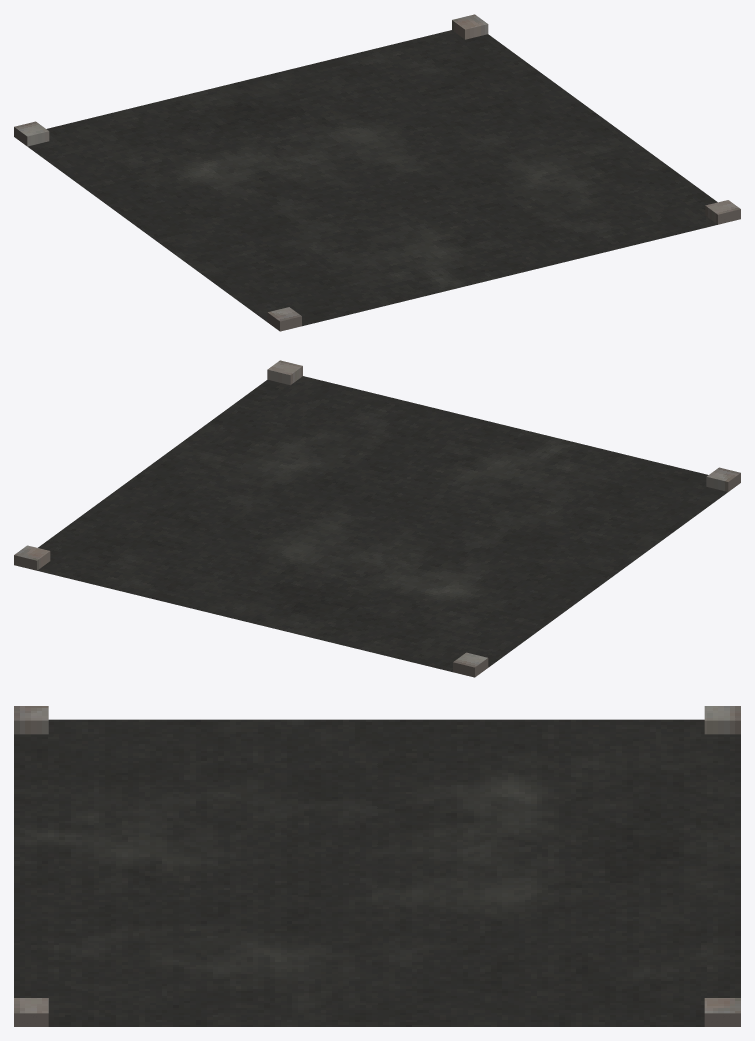
The model's file is Road Intersection.glb.
3 renders of one model, top to bottom at view 1: azimuth 30°, elevation 25°; view 2: azimuth 150°, elevation 25°; view 3: azimuth 270°, elevation 25°, orthographic. The views are drawn at different scales.
Visible parts, largest first — view 1: RoadIntersection; view 2: RoadIntersection; view 3: RoadIntersection.
Boxes of the visible parts, x1,y1,x2,y2 form: RoadIntersection: (14, 14, 740, 331); RoadIntersection: (14, 360, 740, 677); RoadIntersection: (14, 706, 740, 1026).
Bounding box in the file's own units: 4.8 × 0.1 × 4.8.
Materials: 2 (2 with a texture image).
